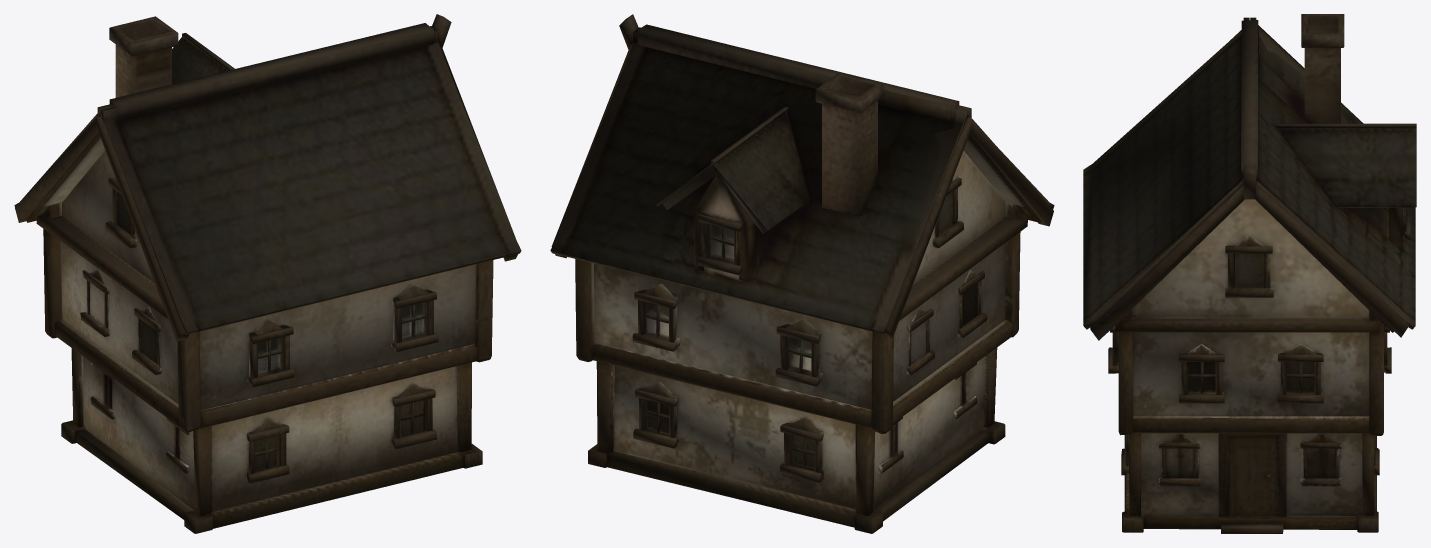
Rendered from m_house2.glb.
3 renders of one model, left to right at view 1: azimuth 30°, elevation 25°; view 2: azimuth 150°, elevation 25°; view 3: azimuth 270°, elevation 25°, orthographic. The views are drawn at different scales.
Visible parts, largest first — view 1: tripo_node_29e981d2; view 2: tripo_node_29e981d2; view 3: tripo_node_29e981d2.
Part boxes in pixels (x1,y1,x2,y2): tripo_node_29e981d2: (14,14,521,533); tripo_node_29e981d2: (550,14,1054,533); tripo_node_29e981d2: (1083,14,1416,533).
Size of the model in its own units: 0.8809 by 0.998 by 0.7559.
1 material, 1 textured.
